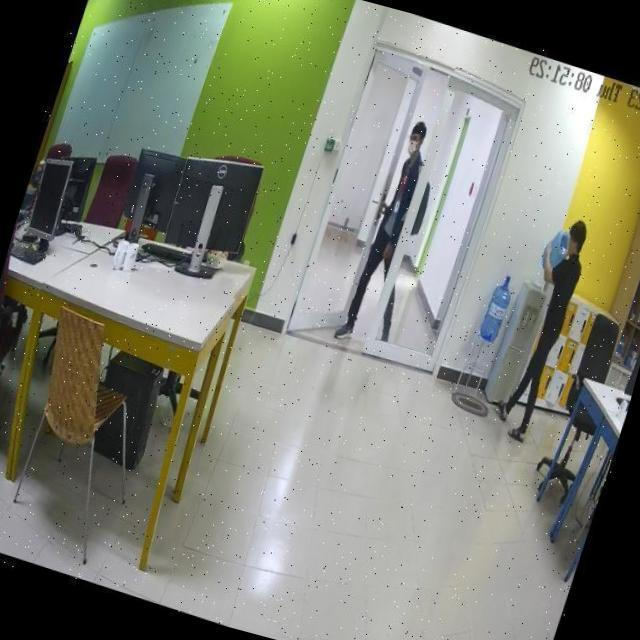person: (330, 112, 446, 356), (488, 212, 598, 446)
